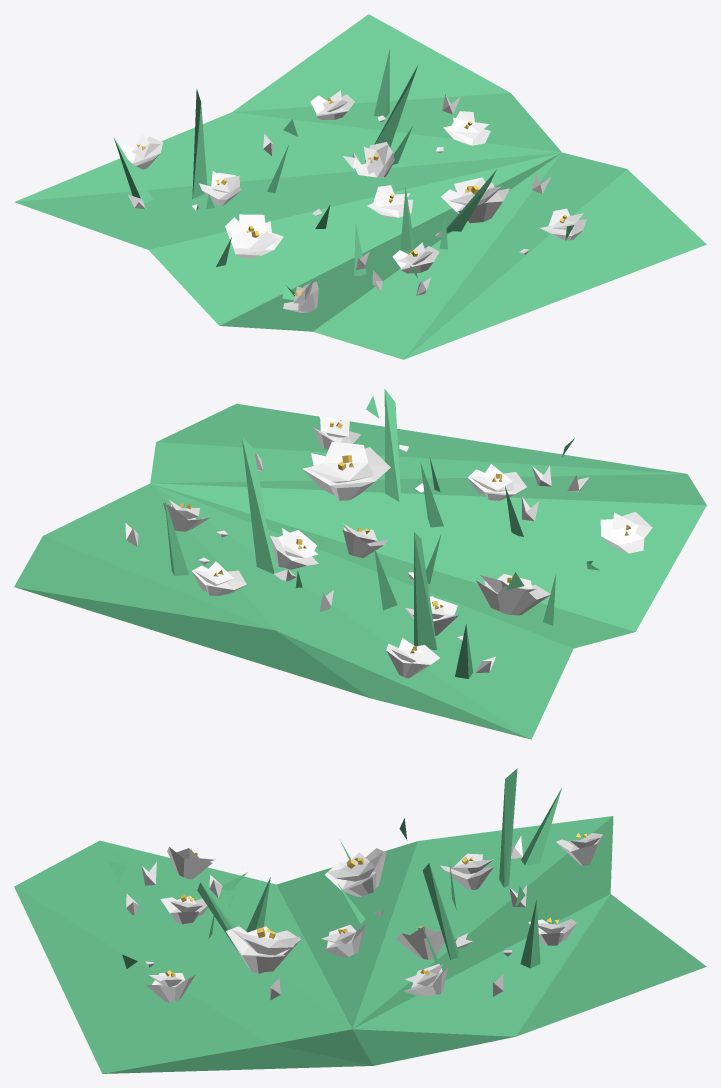
Rendered from littleFlowers_lod1.glb.
The picture shows the model from 3 angles, top to bottom: view 1: azimuth 30°, elevation 25°; view 2: azimuth 150°, elevation 25°; view 3: azimuth 270°, elevation 25°; orthographic projection. The views are drawn at different scales.
Parts seen in each view (by area): view 1: group504158168, group341377517; view 2: group504158168, group341377517, group465336168; view 3: group504158168, group341377517, group465336168.
Part boxes in pixels (<box>): group504158168: <box>14,14,706,359</box>; group341377517: <box>121,90,586,312</box>; group504158168: <box>14,388,706,739</box>; group341377517: <box>125,414,652,678</box>; group465336168: <box>180,422,630,653</box>; group504158168: <box>14,768,706,1073</box>; group341377517: <box>126,833,602,1002</box>; group465336168: <box>165,833,586,977</box>.
Size of the model in its own units: 3.21 by 1.42 by 3.55.
